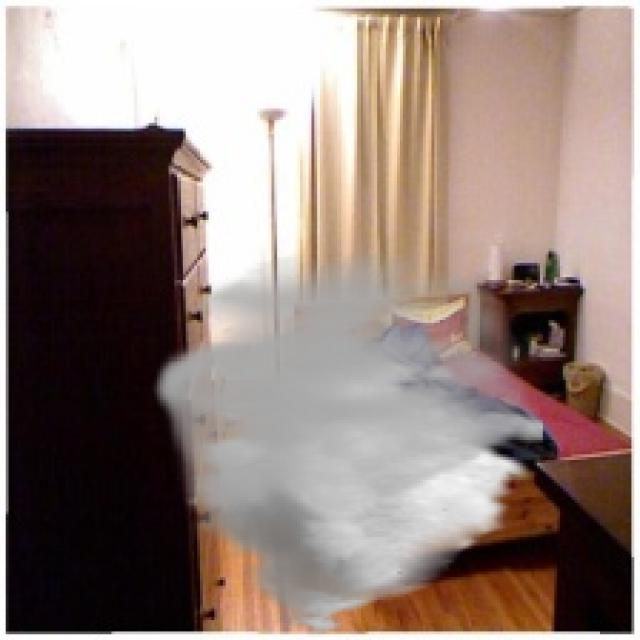smoke: (148, 252, 543, 637)
